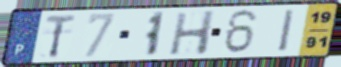1: (145, 10, 167, 58)
6: (222, 8, 260, 55)
7: (83, 12, 120, 59)
H: (167, 9, 218, 57)
I: (277, 8, 297, 54)
T: (43, 13, 78, 60)
